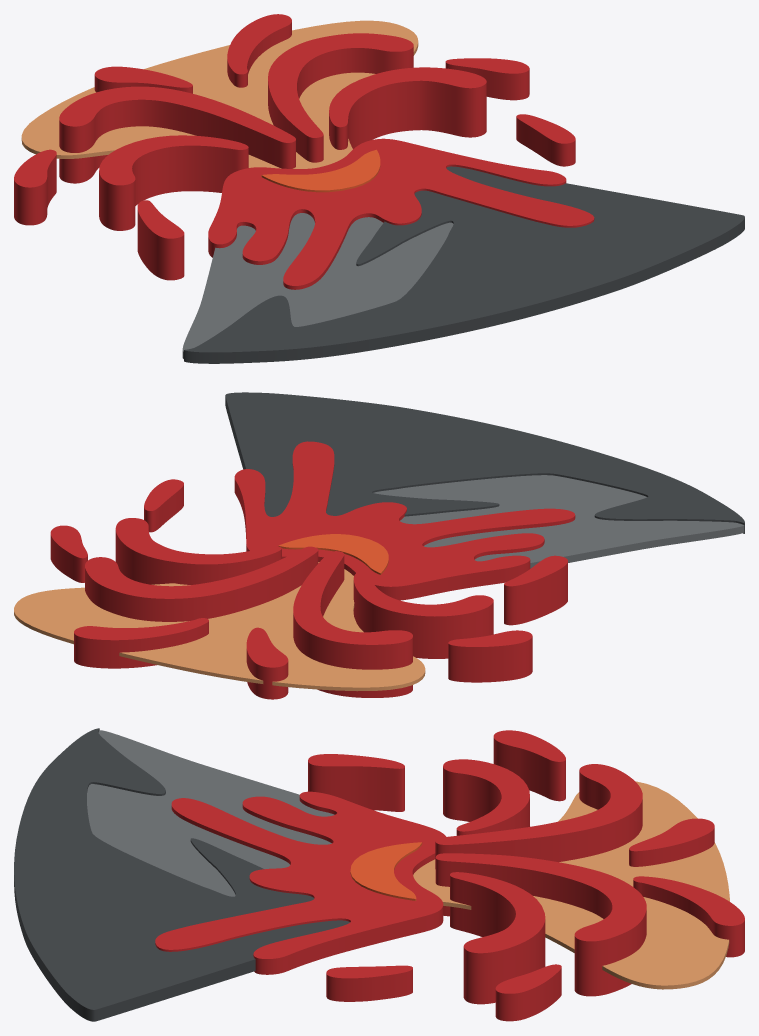
The model's file is emoji_u1f30b.glb.
3 renders of one model, top to bottom at view 1: azimuth 30°, elevation 25°; view 2: azimuth 150°, elevation 25°; view 3: azimuth 270°, elevation 25°, orthographic. The views are drawn at different scales.
Parts seen in each view (by area): view 1: emoji_u1f30b; view 2: emoji_u1f30b; view 3: emoji_u1f30b.
Part boxes in pixels (x1,y1,x2,y2): emoji_u1f30b: [14, 14, 744, 363]; emoji_u1f30b: [14, 392, 744, 699]; emoji_u1f30b: [14, 728, 744, 1021].
Bounding box in the file's own units: 0.0308 × 0.003 × 0.0337.
